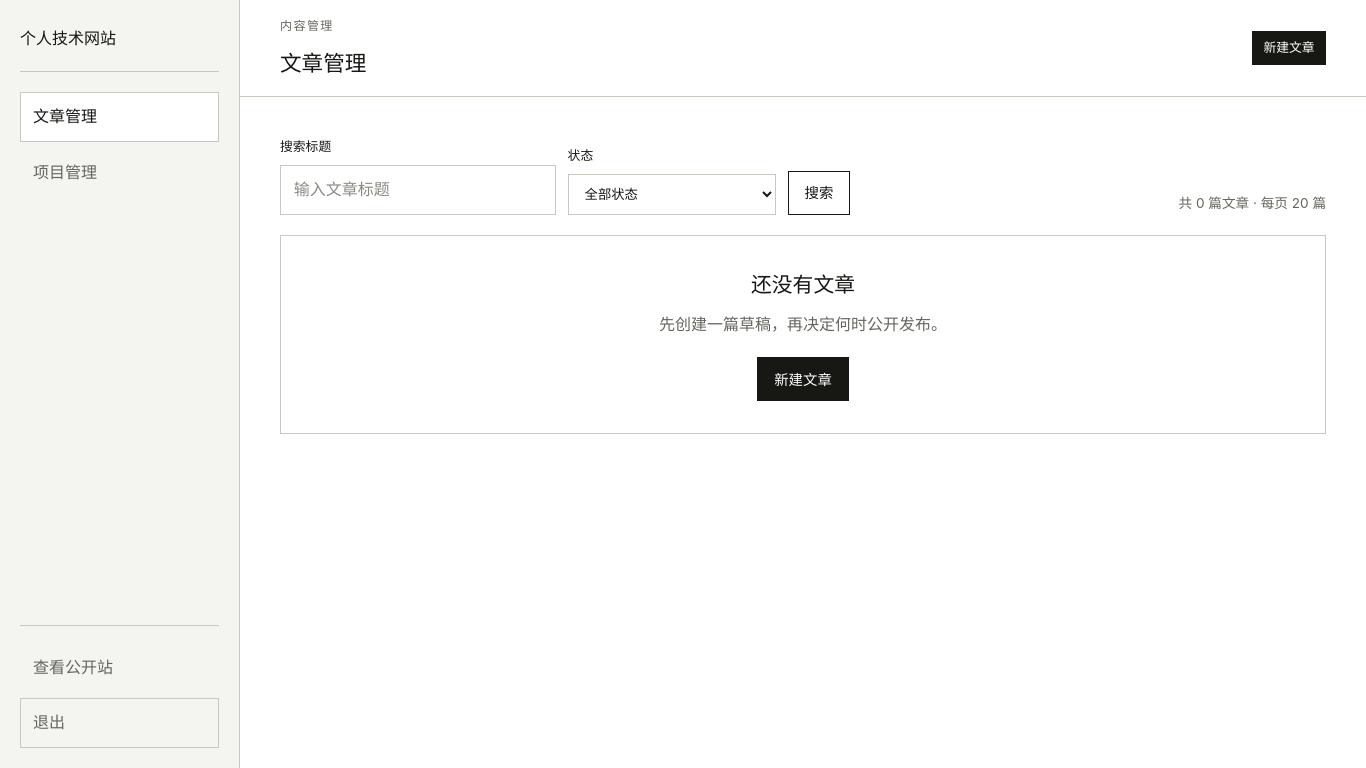
Scenario: 管理端路由页面 › 退出返回 session_expired 时清除本地会话并跳转登录
Click the button with class "nav-button" at point(120, 723), box x1=20 y1=698 x2=219 y2=748
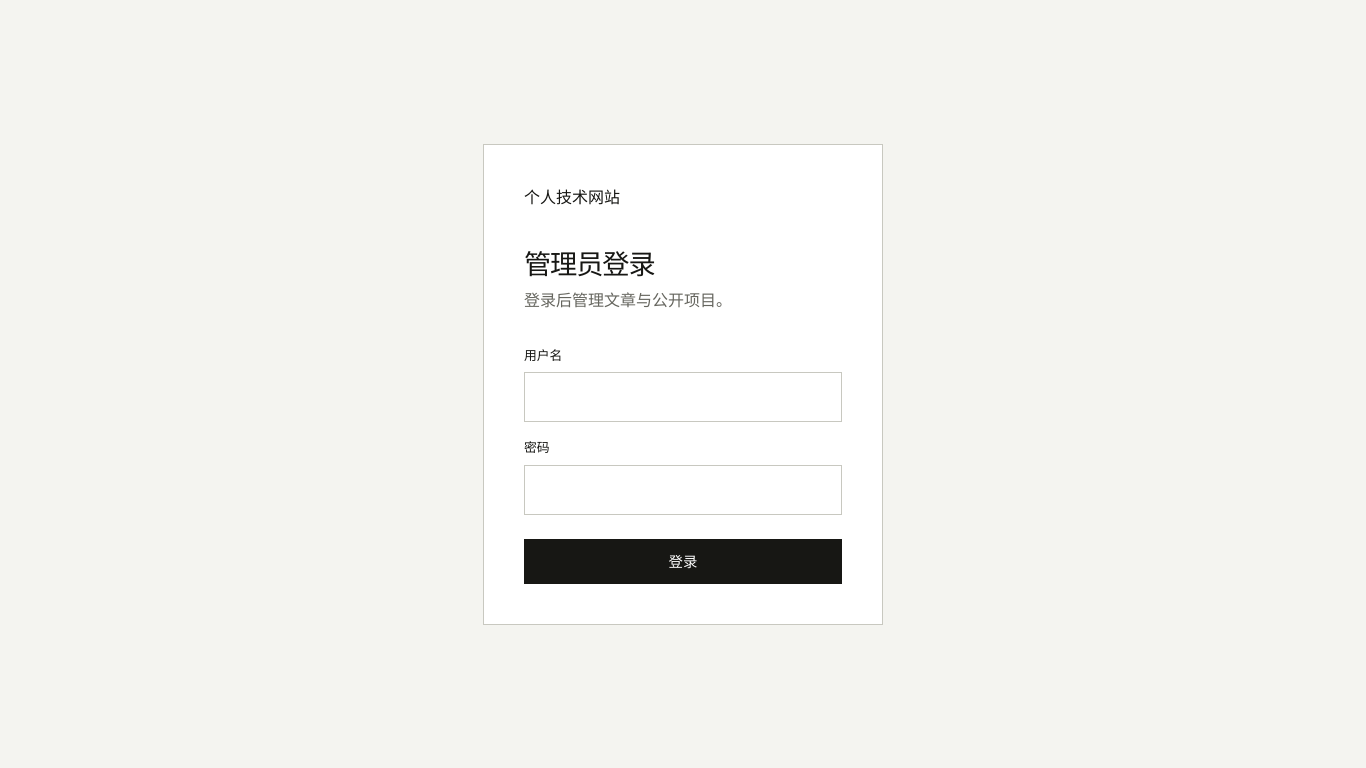
Now the heading "管理员登录" is shown, box x1=524 y1=248 x2=654 y2=281
